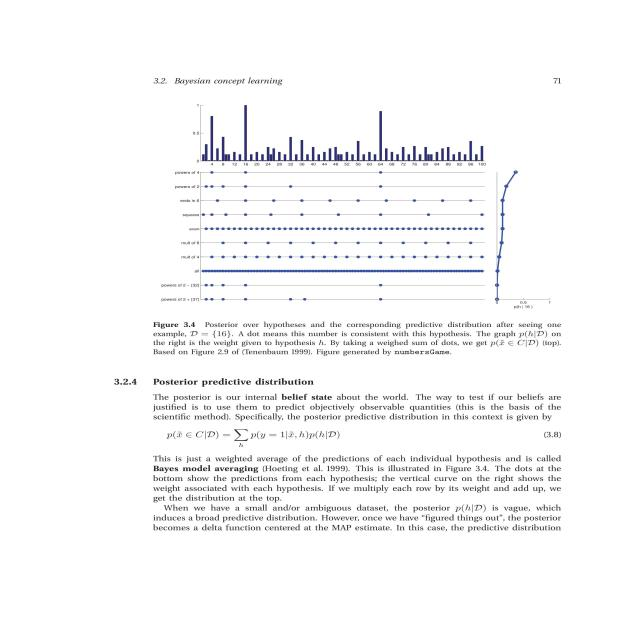diagram: (121, 109, 640, 358)
